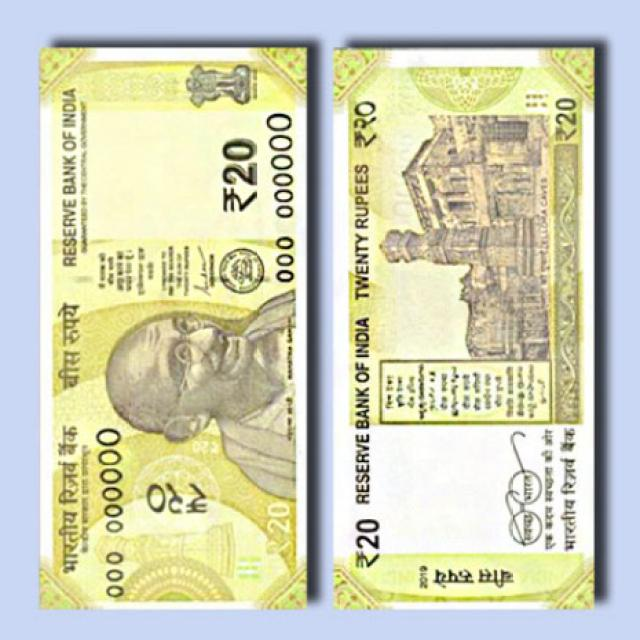20IndianRupees: (342, 50, 597, 608)
